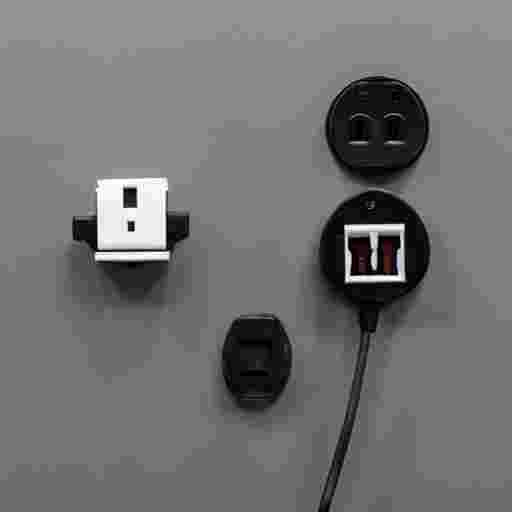power outlet: (73, 177, 188, 262)
